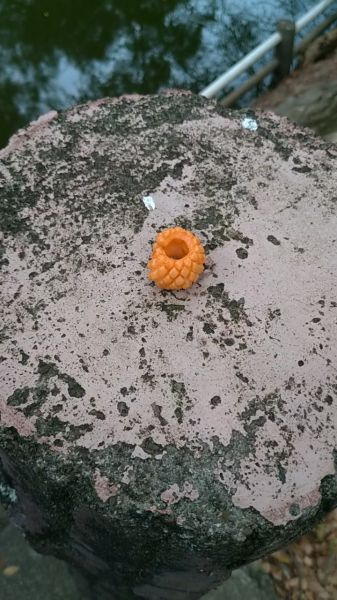eggs: (144, 220, 208, 292)
